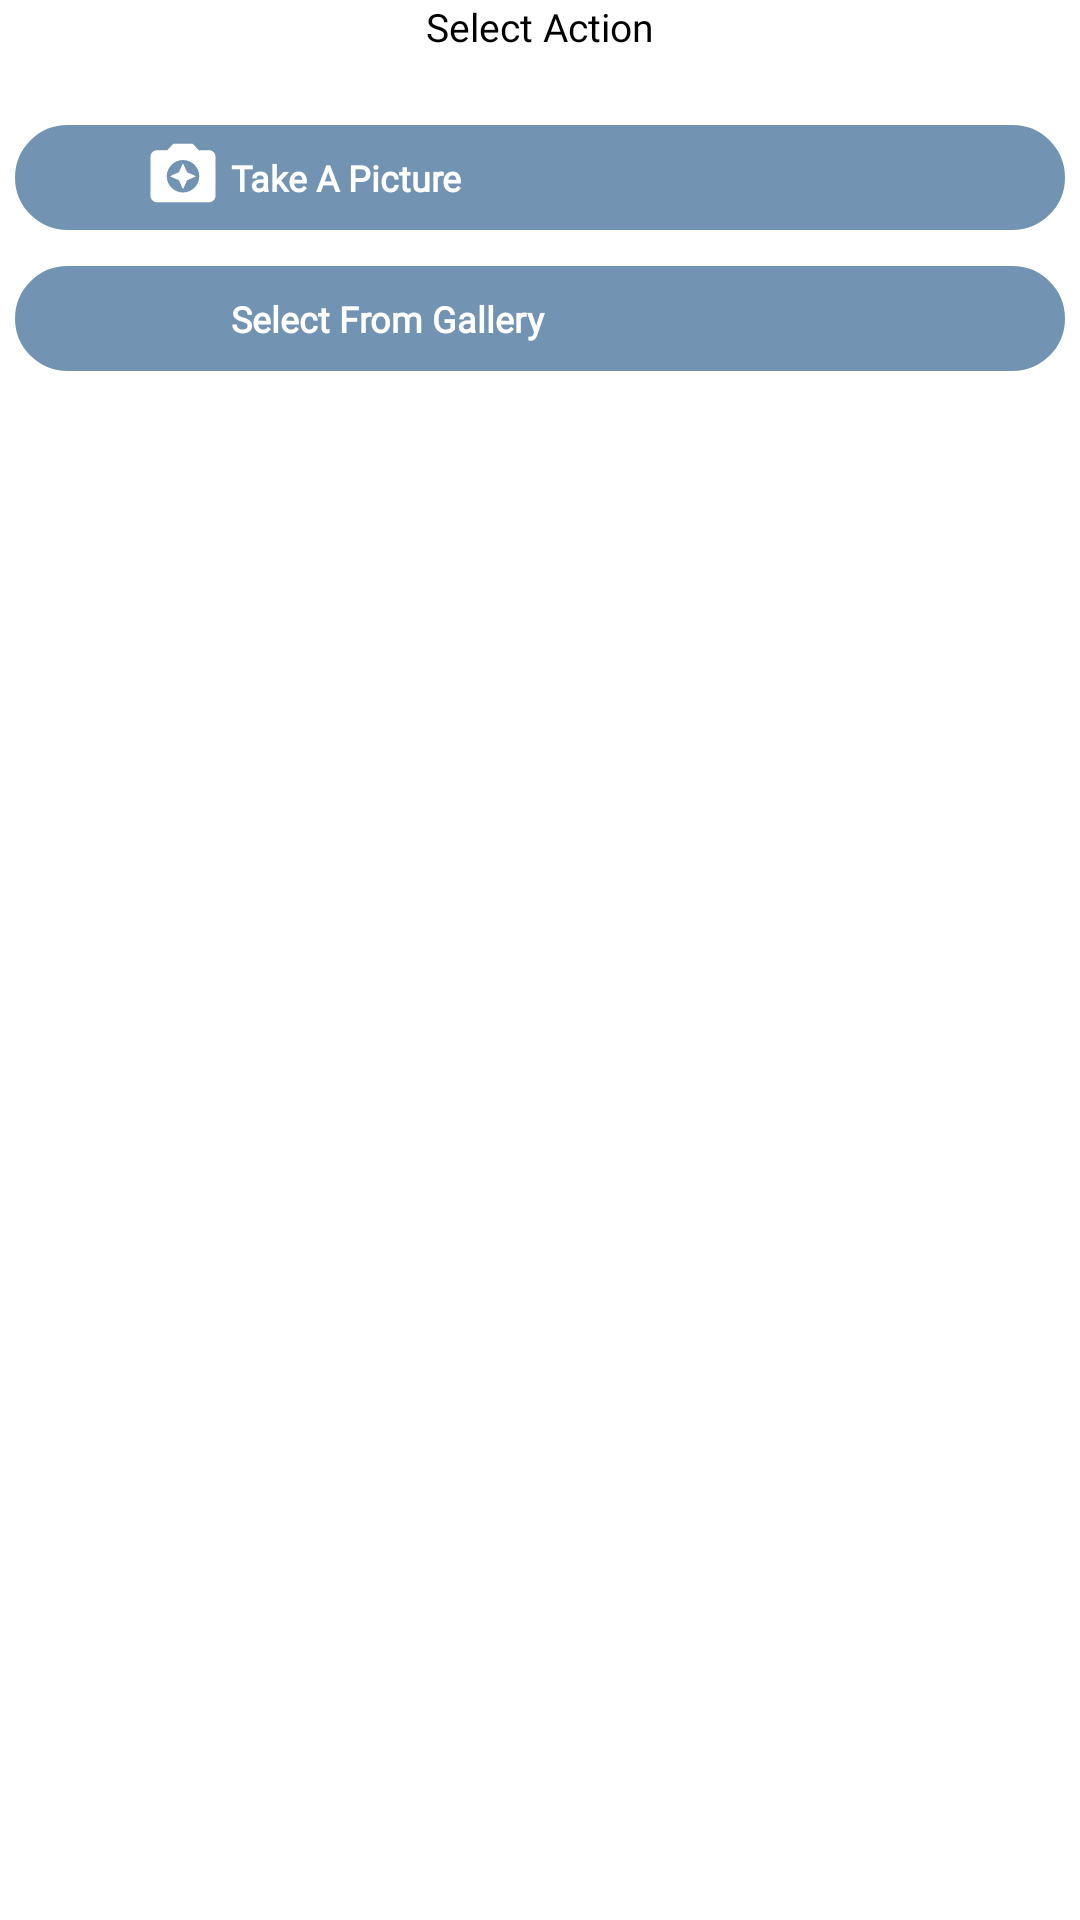

Screen size 1080×1920. Icon name, then its center in pixels as (x=x, y=y):
camera scan: (x=183, y=173)
